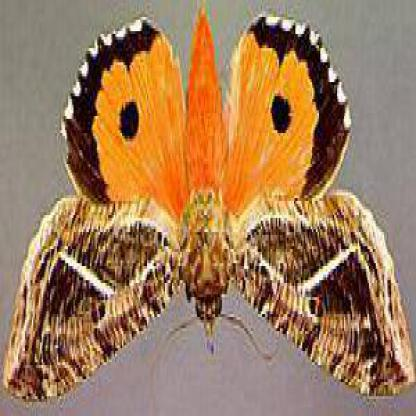fruit sucking moth: (4, 17, 415, 406)
